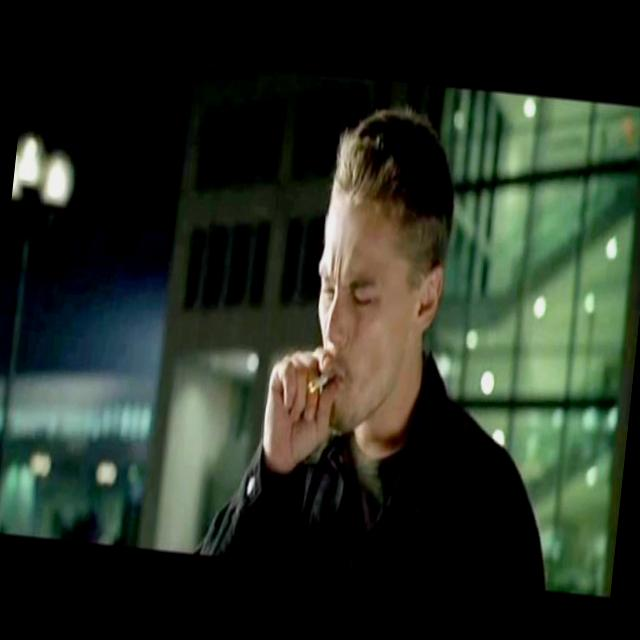smoke: (306, 360, 341, 401)
